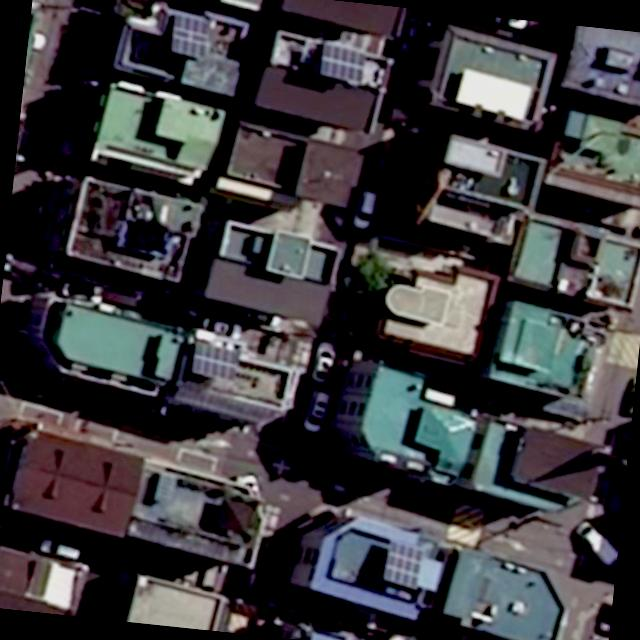solar: (379, 539, 426, 590), (188, 338, 241, 382), (168, 11, 214, 61), (316, 42, 370, 82)
